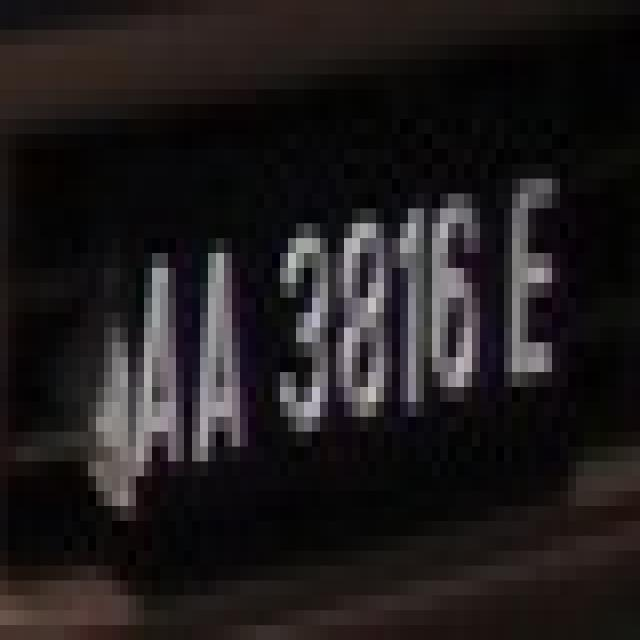licenseplate: (128, 141, 579, 512)
